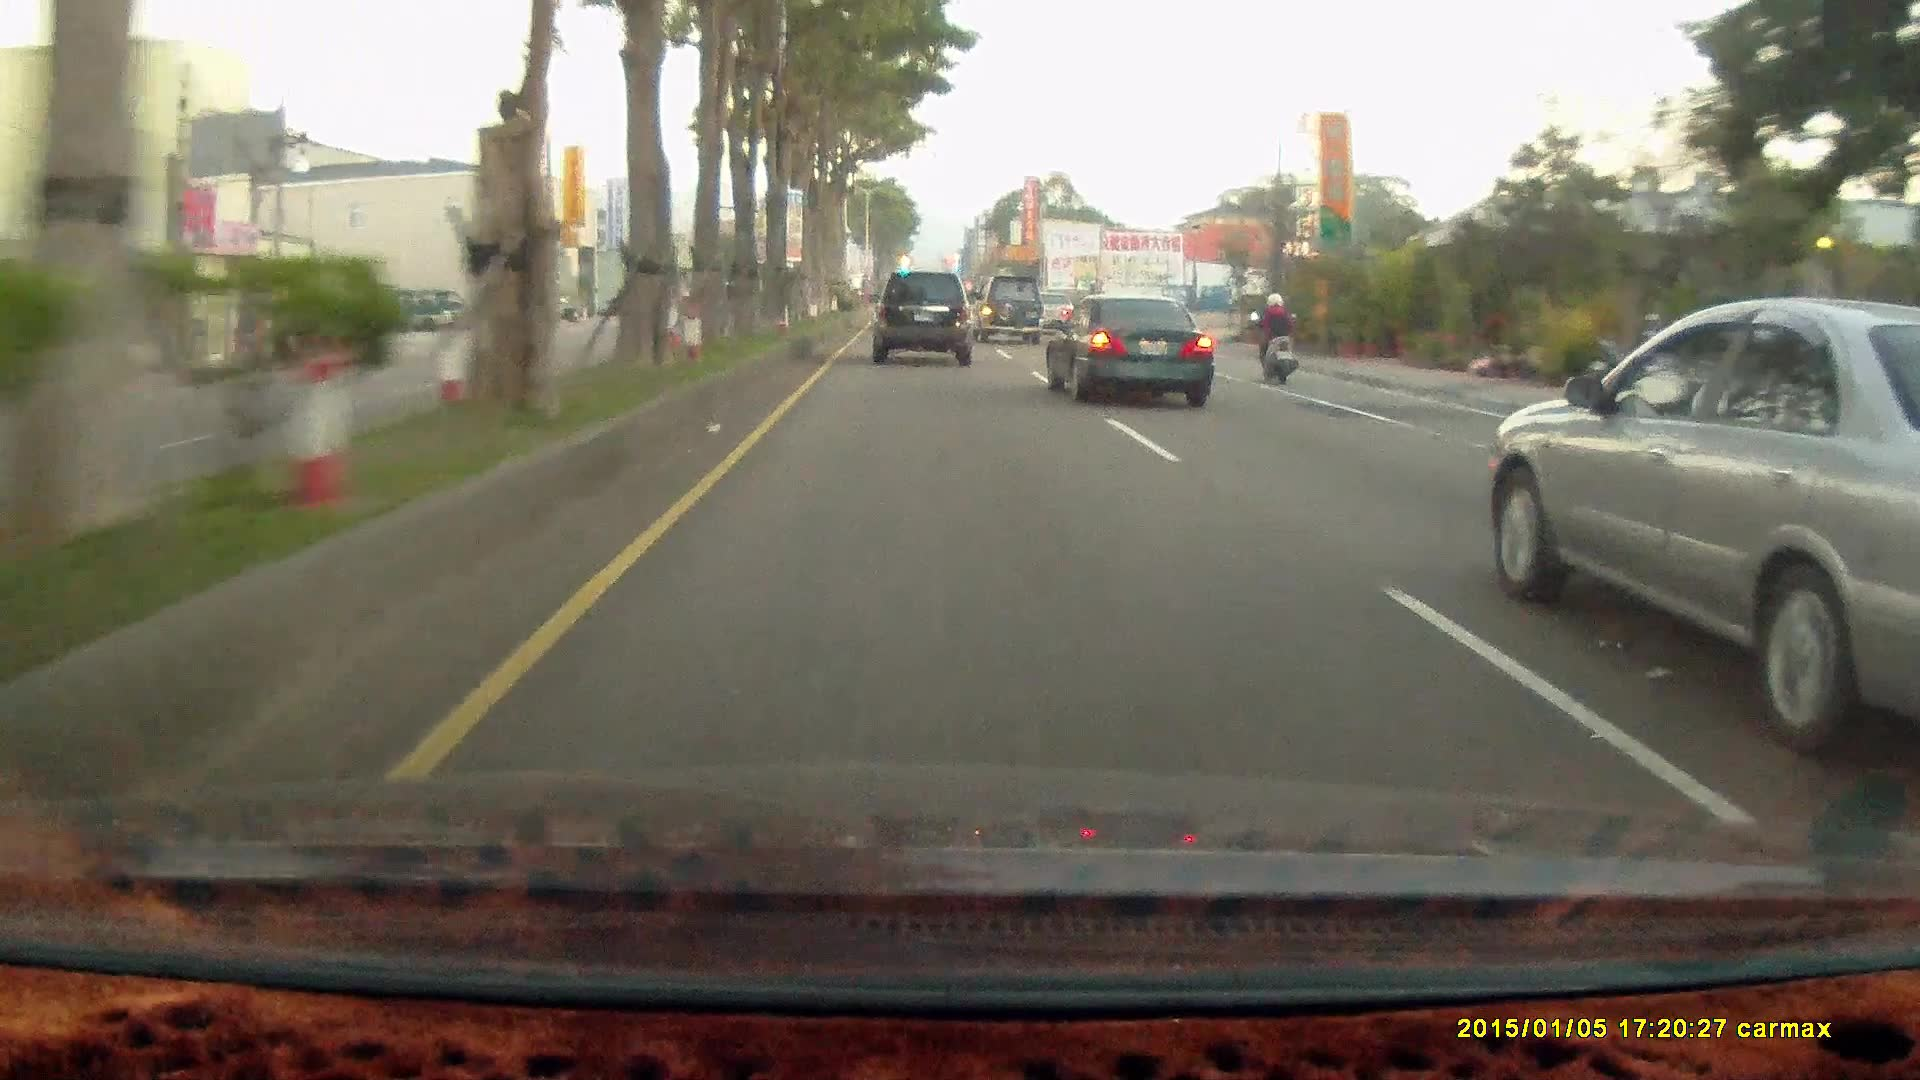rider: (1241, 284, 1310, 395), (1246, 289, 1301, 385)
vehicle: (1471, 294, 1917, 760), (1040, 294, 1217, 409), (1042, 292, 1212, 409), (870, 271, 976, 369), (870, 273, 973, 365), (969, 275, 1045, 346), (375, 287, 465, 334)
